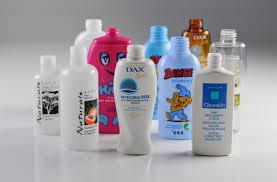Container for household chemicals: (175, 18, 260, 118), (84, 20, 128, 131), (60, 33, 100, 150), (113, 43, 152, 160), (193, 50, 233, 155), (148, 21, 178, 134), (26, 56, 64, 141)
